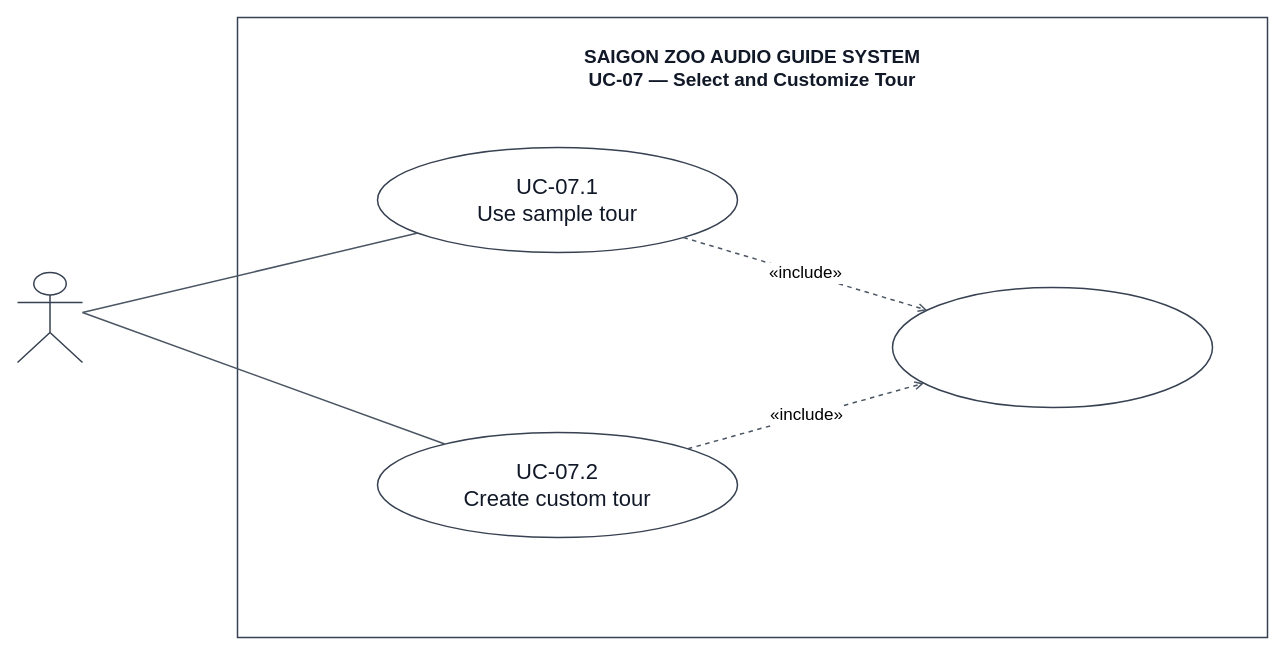
Some shapes in this 1286 by 656 pixel diagram are drawn without their labels. Here are the shapes that lost their labels. From the top down, the centre of each, then its label:
point (49, 317): Visitor
point (1052, 347): UC-07.3 View tour on map
